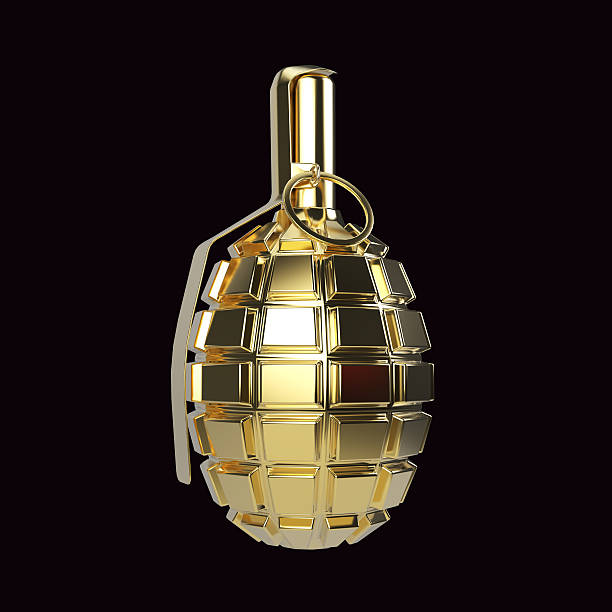e1: (166, 63, 439, 552)
